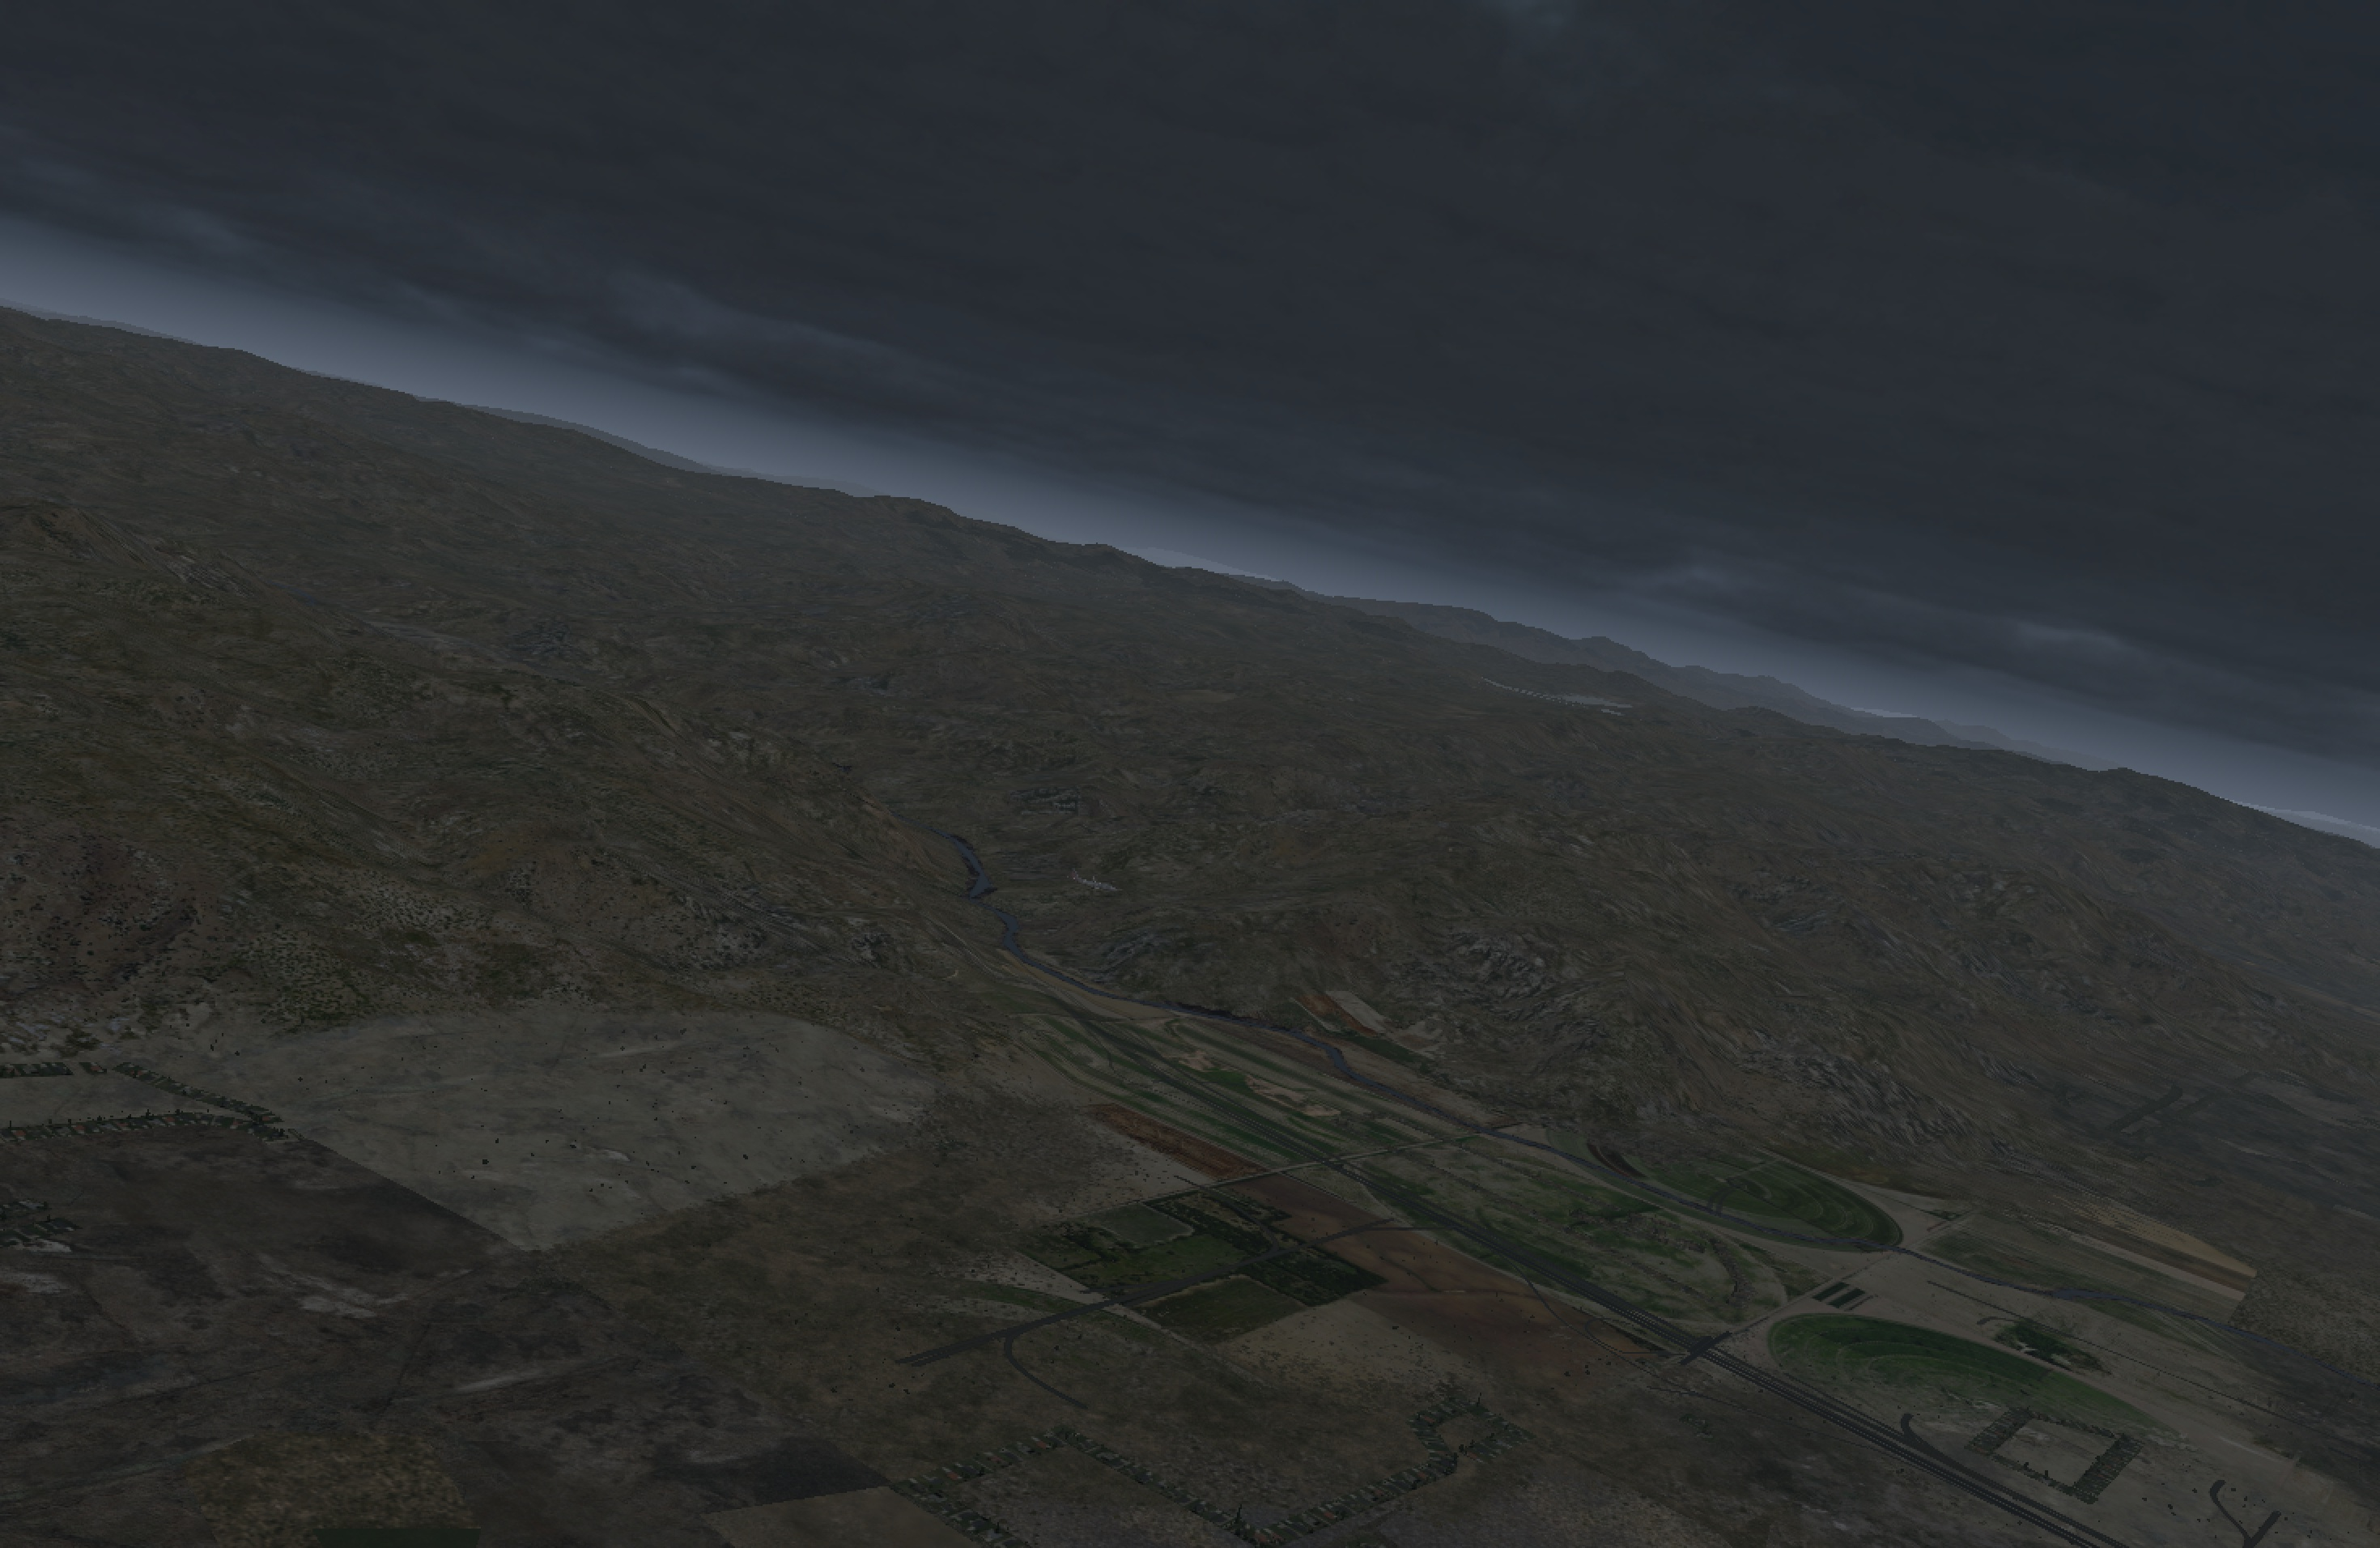aircraft: (1070, 876, 1121, 895)
